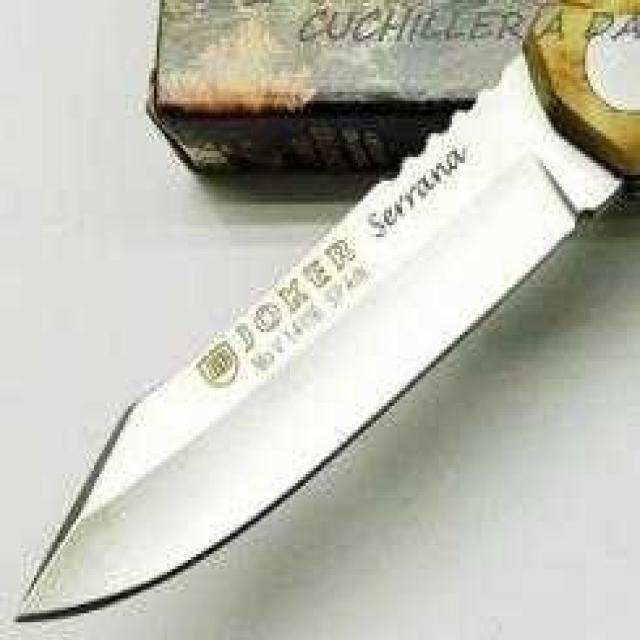knife: (12, 0, 640, 630)
